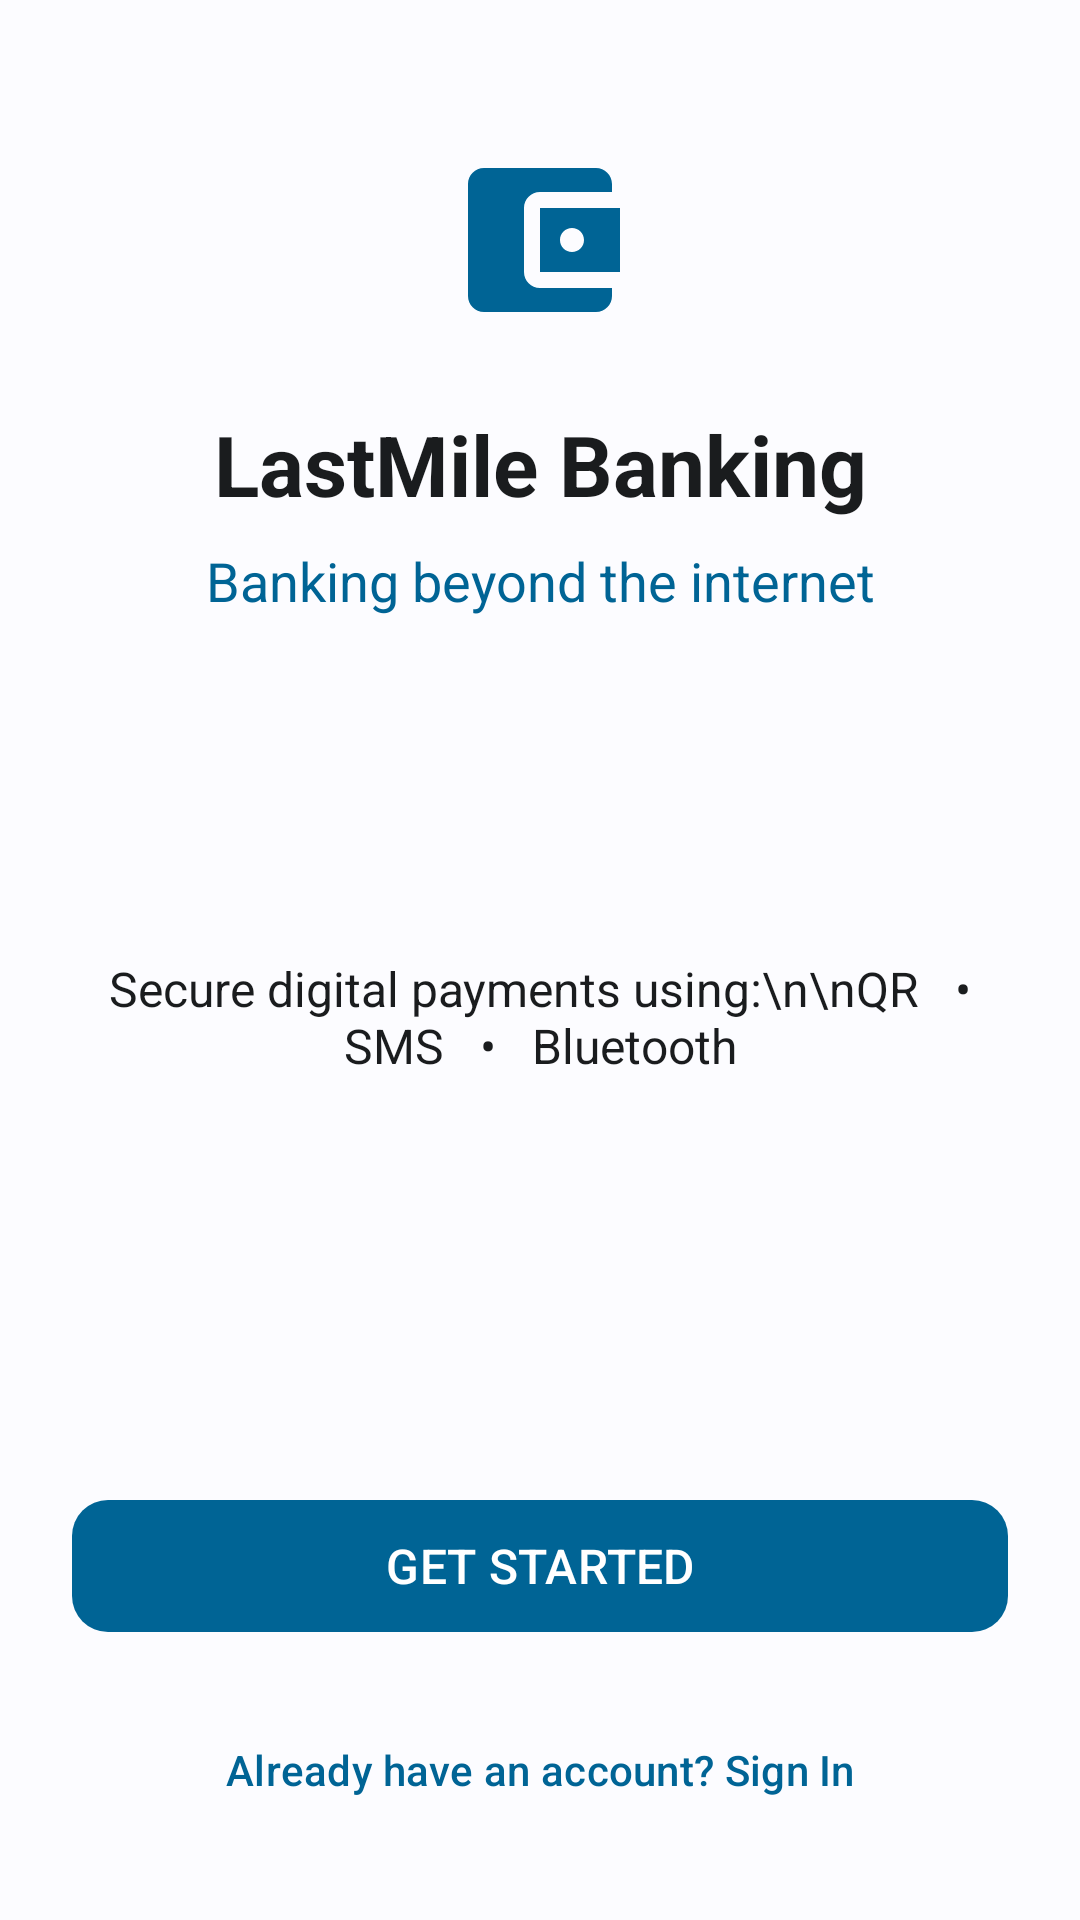

Screen size 1080*1920. Icon name, then its center in pixels as (x,y):
wallet: (544,240)
